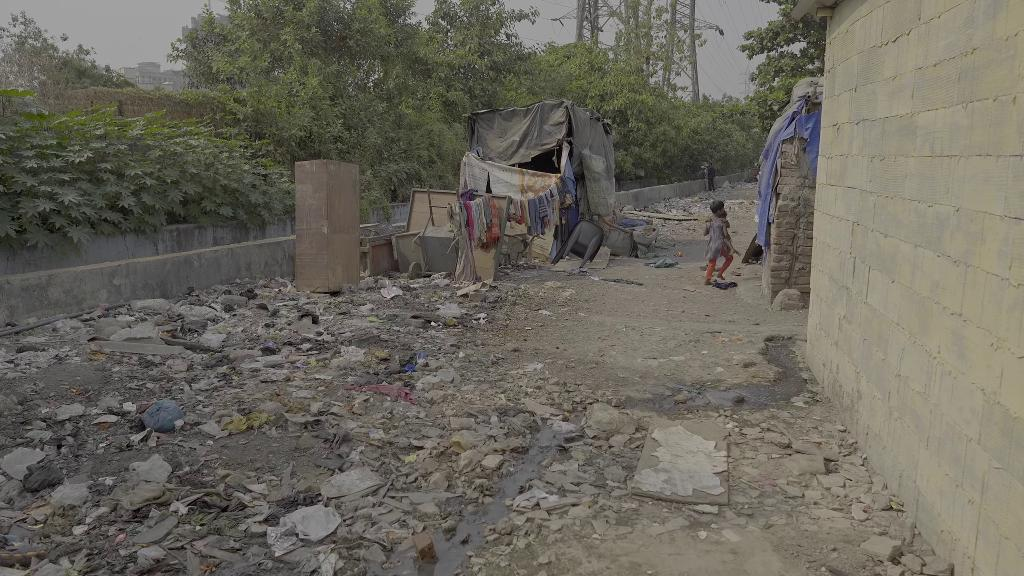garbage: (283, 504, 345, 539), (134, 399, 188, 437), (355, 375, 422, 404), (123, 454, 176, 489), (324, 468, 384, 497), (22, 460, 71, 494), (445, 430, 484, 455), (190, 301, 223, 322), (52, 401, 86, 420), (197, 331, 227, 351), (293, 308, 320, 327), (438, 303, 464, 320), (381, 282, 403, 300)
